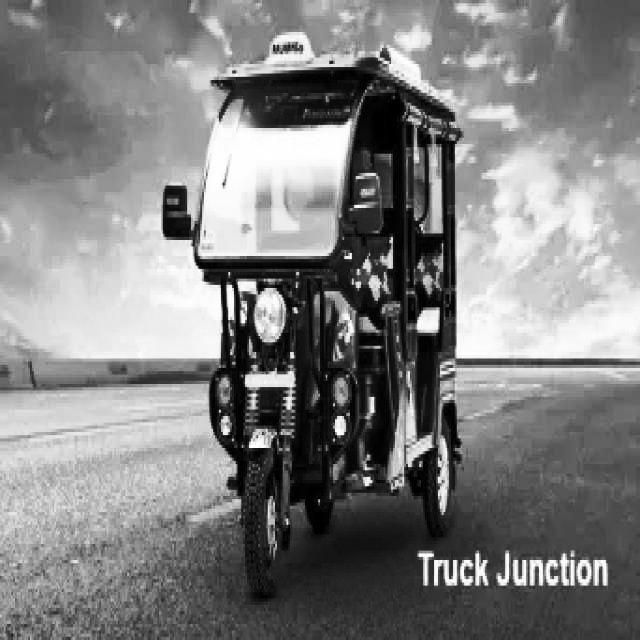Toto: (173, 46, 481, 594)
